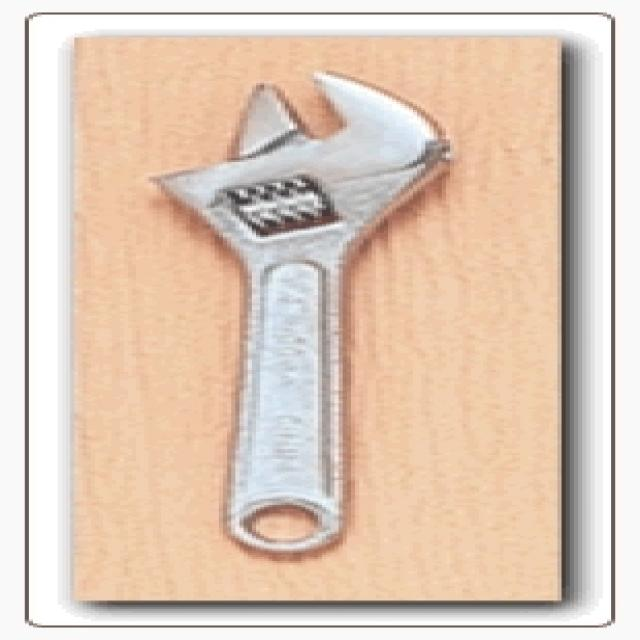wrench: (155, 59, 486, 561)
